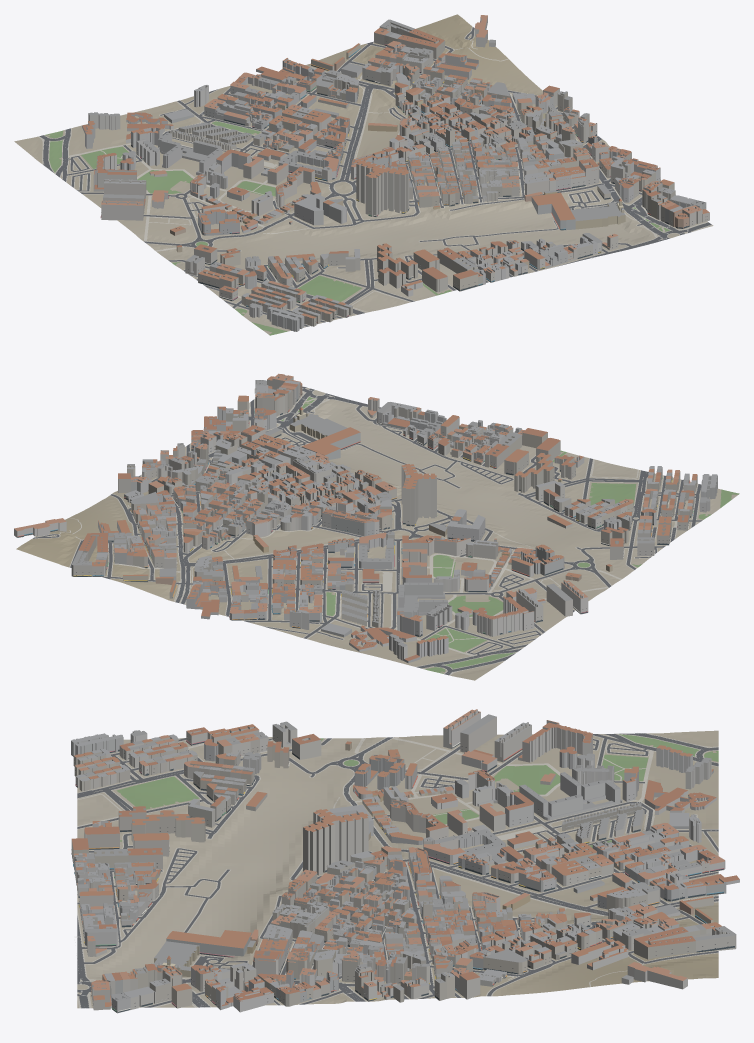
The picture shows the model from 3 angles, top to bottom: view 1: azimuth 30°, elevation 25°; view 2: azimuth 150°, elevation 25°; view 3: azimuth 270°, elevation 25°; orthographic projection. The views are drawn at different scales.
Visible parts, largest first — view 1: Walls, Roofs, Ground, Road, Sidewalk, Park, Detail; view 2: Walls, Roofs, Ground, Road, Sidewalk, Park, Detail; view 3: Walls, Roofs, Ground, Road, Sidewalk, Park, Detail.
Boxes of the visible parts, x1,y1,x2,y2 form: Walls: (82, 16, 709, 331); Roofs: (82, 15, 709, 320); Ground: (14, 14, 713, 334); Road: (39, 27, 711, 326); Sidewalk: (38, 26, 712, 326); Park: (45, 121, 669, 335); Detail: (93, 21, 707, 324); Walls: (14, 375, 717, 663); Roofs: (14, 373, 717, 660); Ground: (16, 386, 738, 680); Road: (33, 387, 702, 675); Sidewalk: (31, 386, 702, 675); Park: (281, 397, 739, 673); Detail: (17, 388, 703, 636); Walls: (71, 709, 739, 1013); Roofs: (71, 709, 739, 1006); Ground: (77, 730, 718, 1008); Road: (77, 733, 718, 1008); Sidewalk: (77, 733, 718, 1008); Park: (116, 734, 718, 847); Detail: (71, 735, 734, 1012).
Bounding box in the file's own units: 1103 × 92.25 × 1132.
